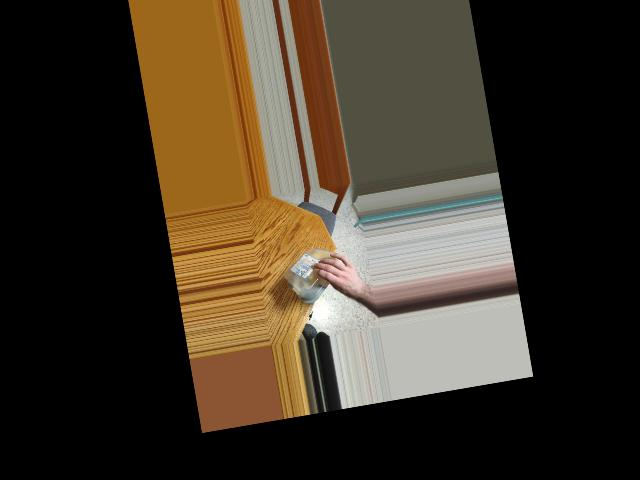cheese: (280, 242, 352, 304)
